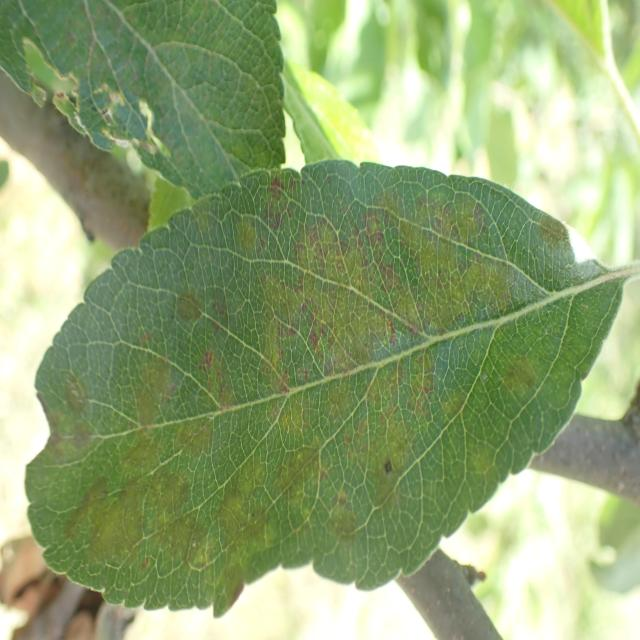scab: (39, 190, 591, 590)
